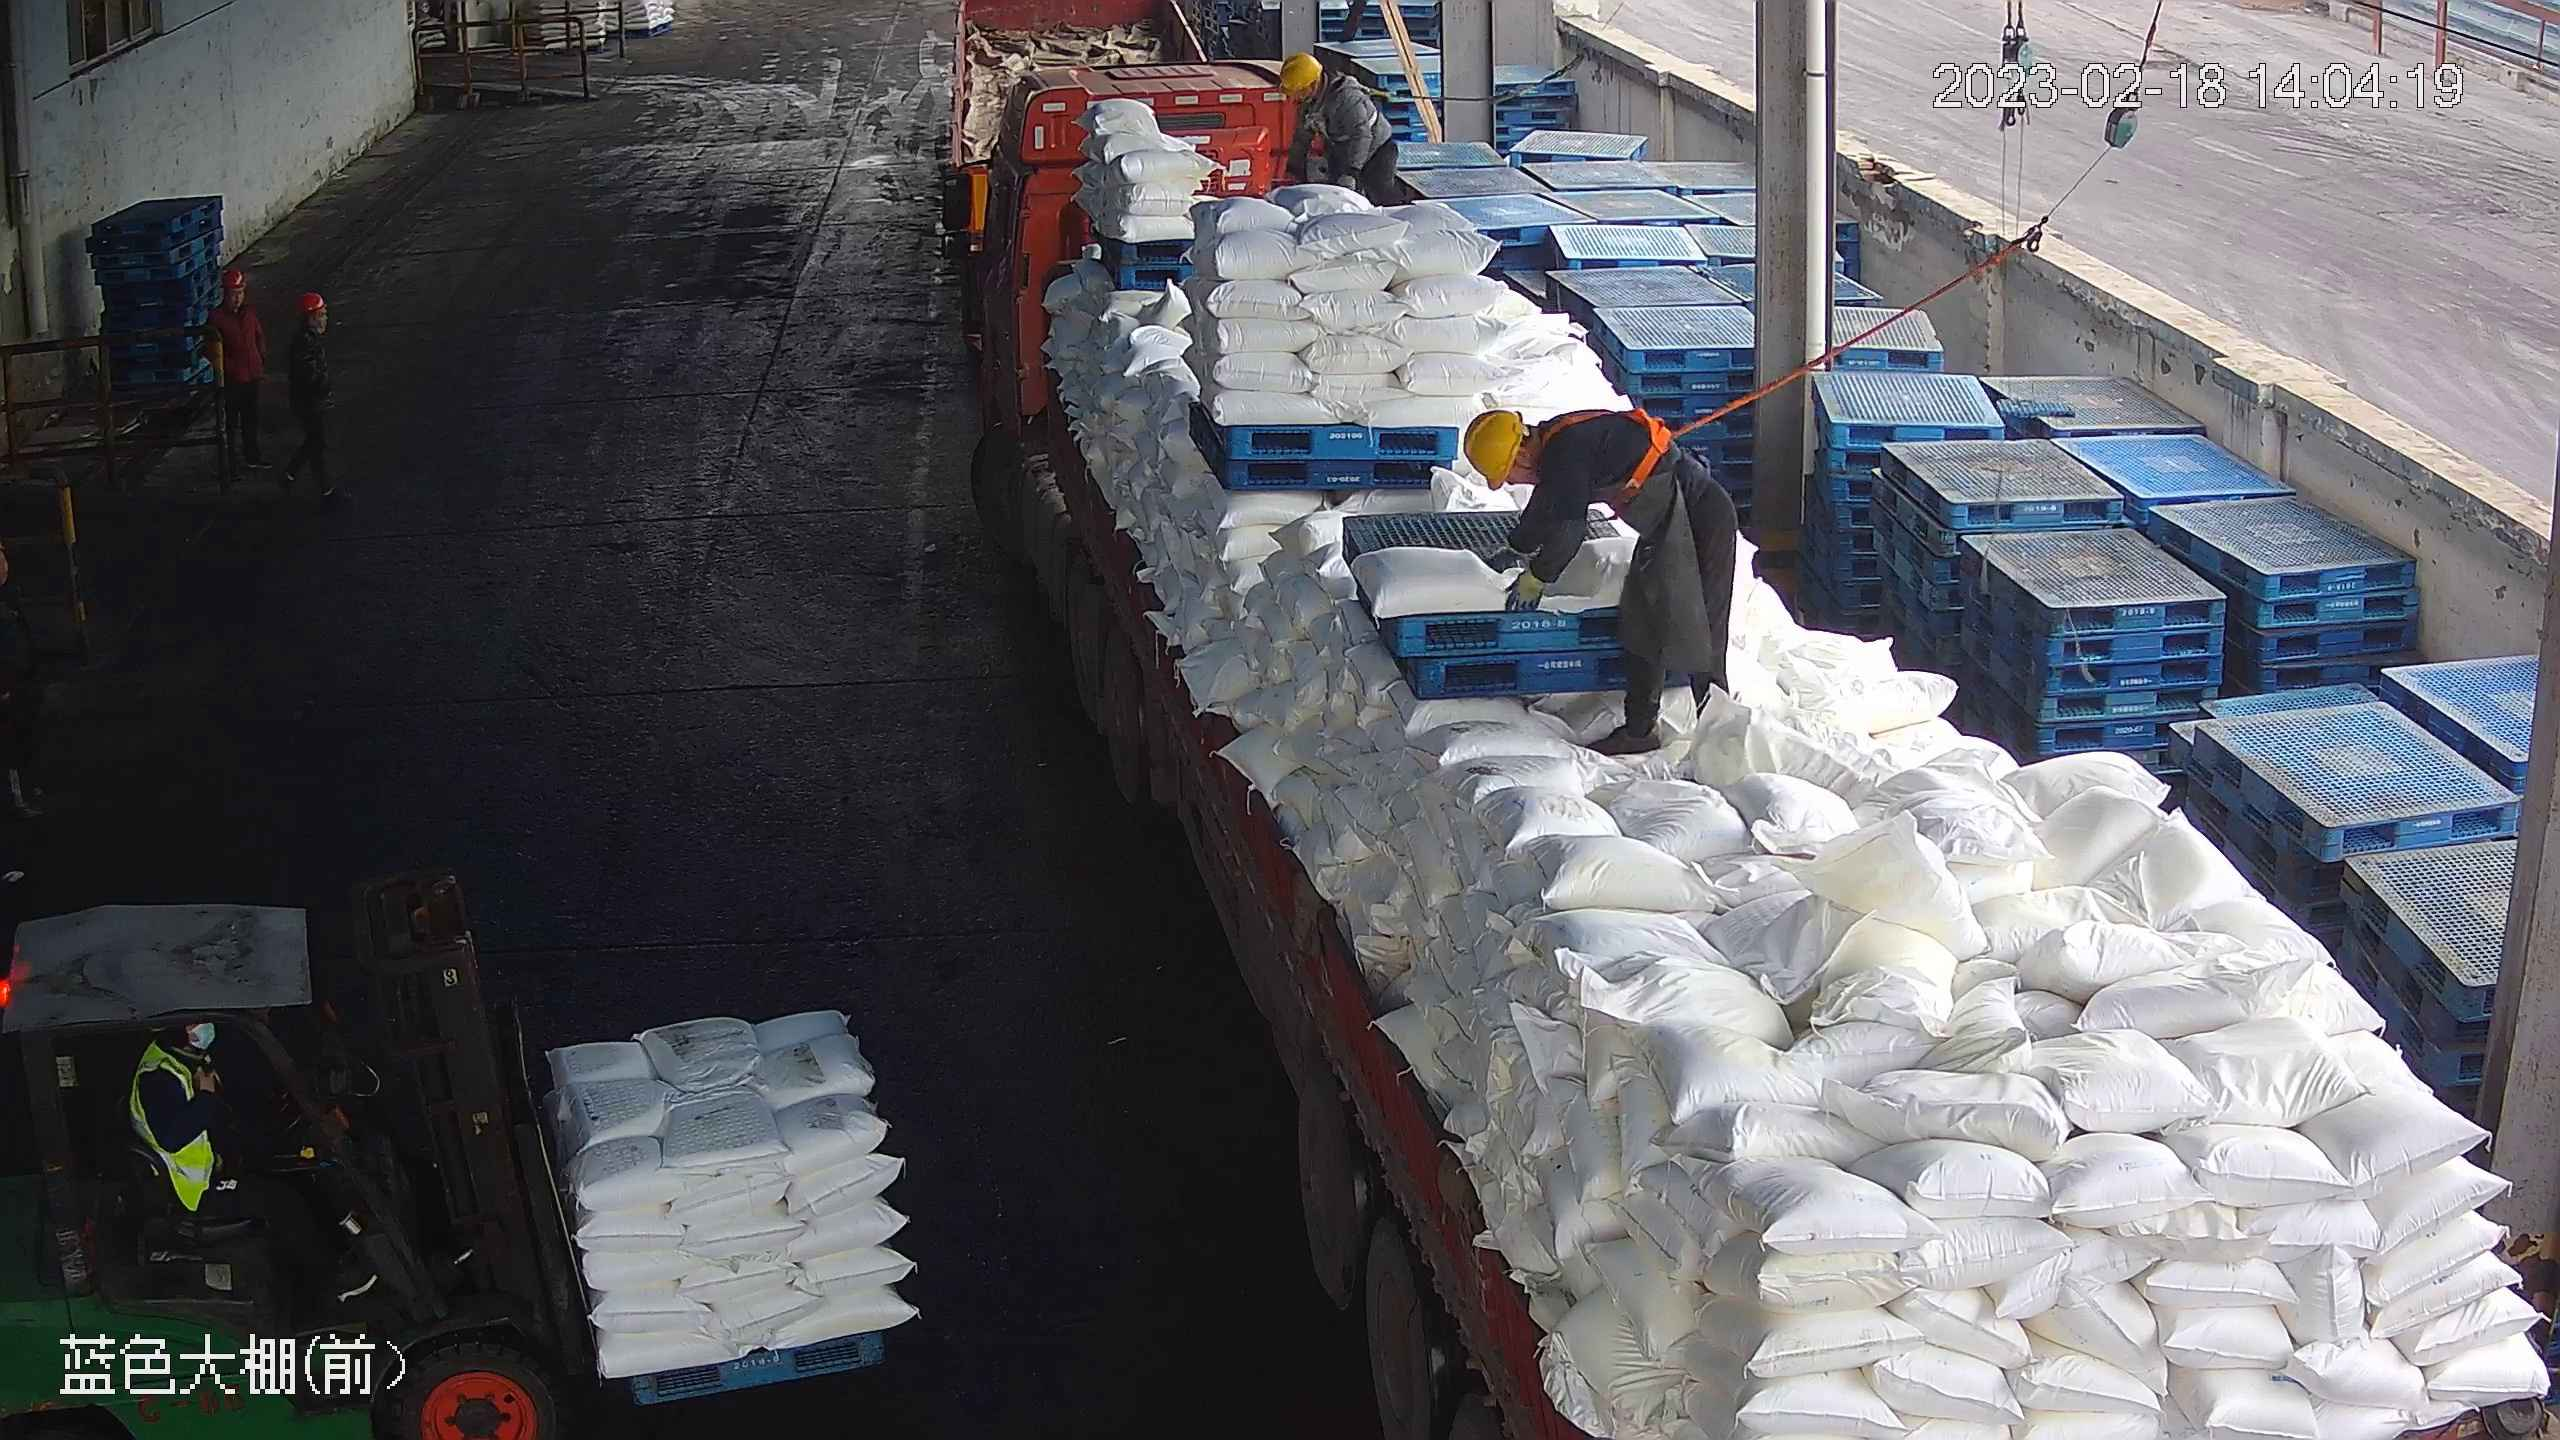belt: (1543, 394, 1684, 505), (1312, 72, 1391, 144)
head: (1456, 398, 1617, 511), (134, 1011, 232, 1110), (1282, 48, 1374, 124), (284, 289, 335, 362), (210, 269, 258, 331)
helmet: (1458, 405, 1526, 491), (1276, 48, 1322, 92), (294, 290, 326, 315), (217, 267, 247, 291)
people: (1460, 396, 1744, 750), (125, 1006, 319, 1282), (1277, 50, 1403, 202), (279, 286, 347, 506), (208, 266, 274, 478)
truck: (942, 34, 2556, 1440)
